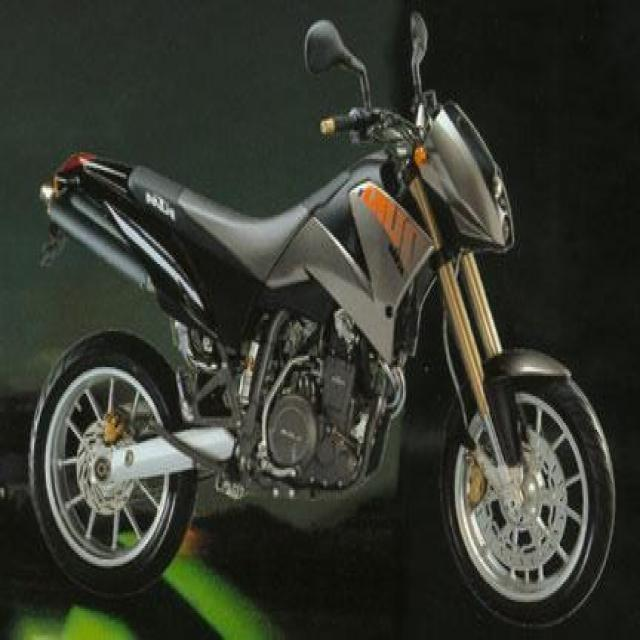Motorcycle: (27, 29, 619, 618)
